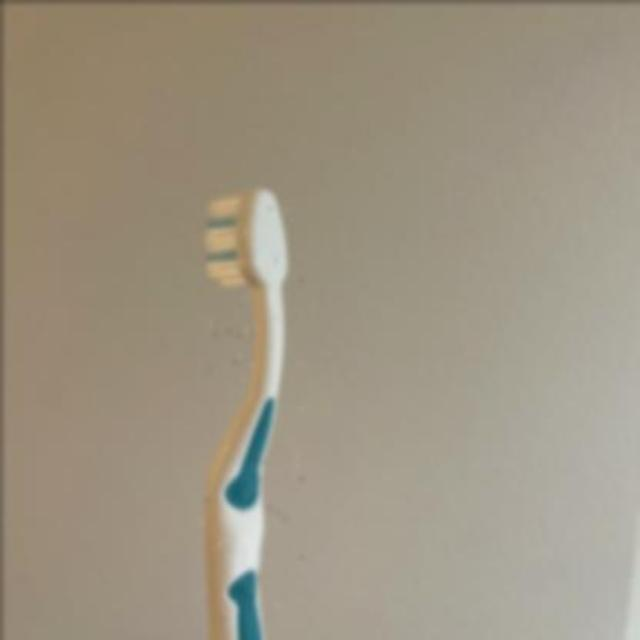toothbrush: (191, 180, 303, 640)
